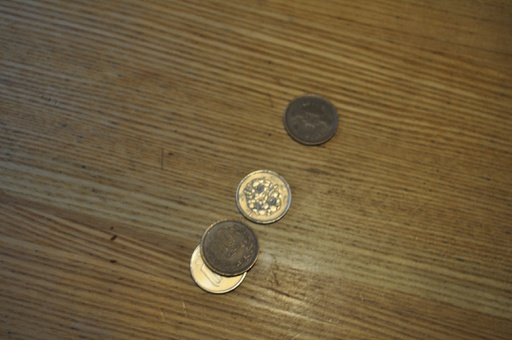100yen: (191, 237, 247, 293), (237, 171, 290, 224)
10yen: (200, 218, 259, 277), (282, 94, 338, 145)
